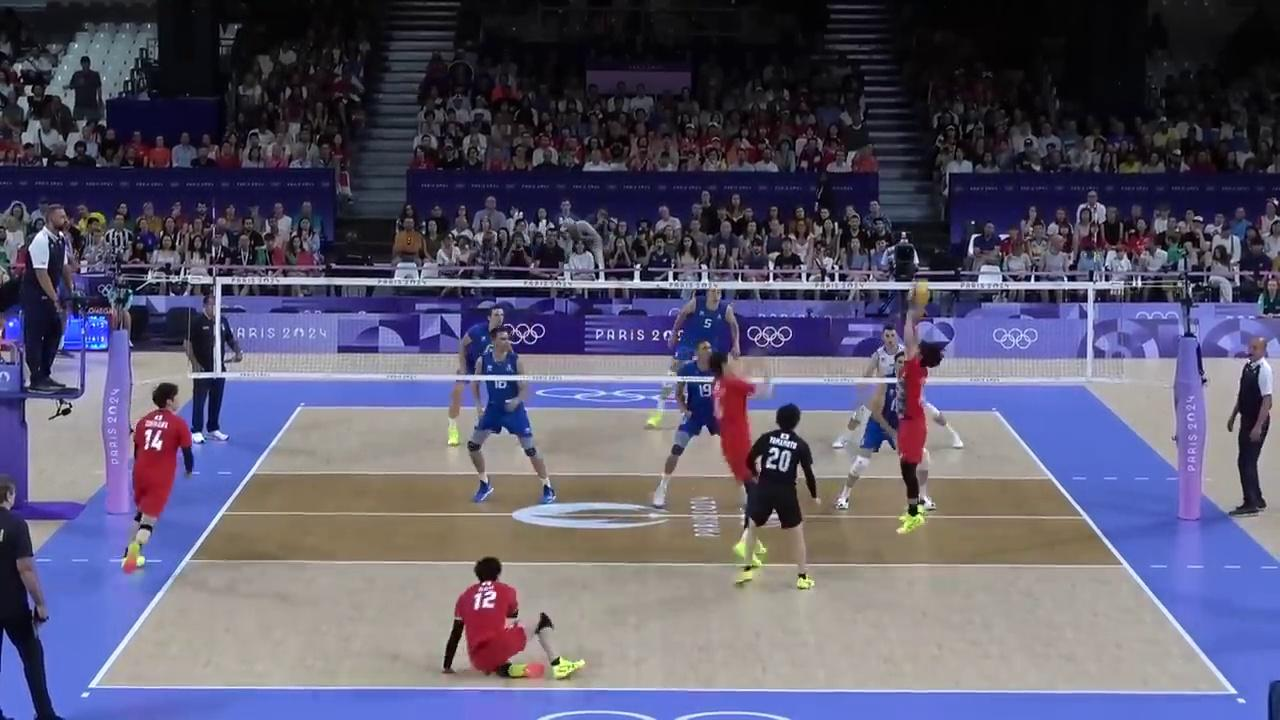ball: (908, 282, 930, 307)
